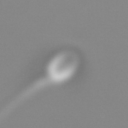normal: (1, 75, 49, 122)
